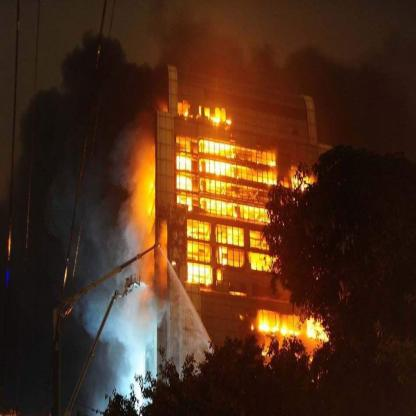fire: (172, 123, 284, 290), (119, 113, 156, 279), (247, 300, 331, 351), (175, 96, 229, 124)
